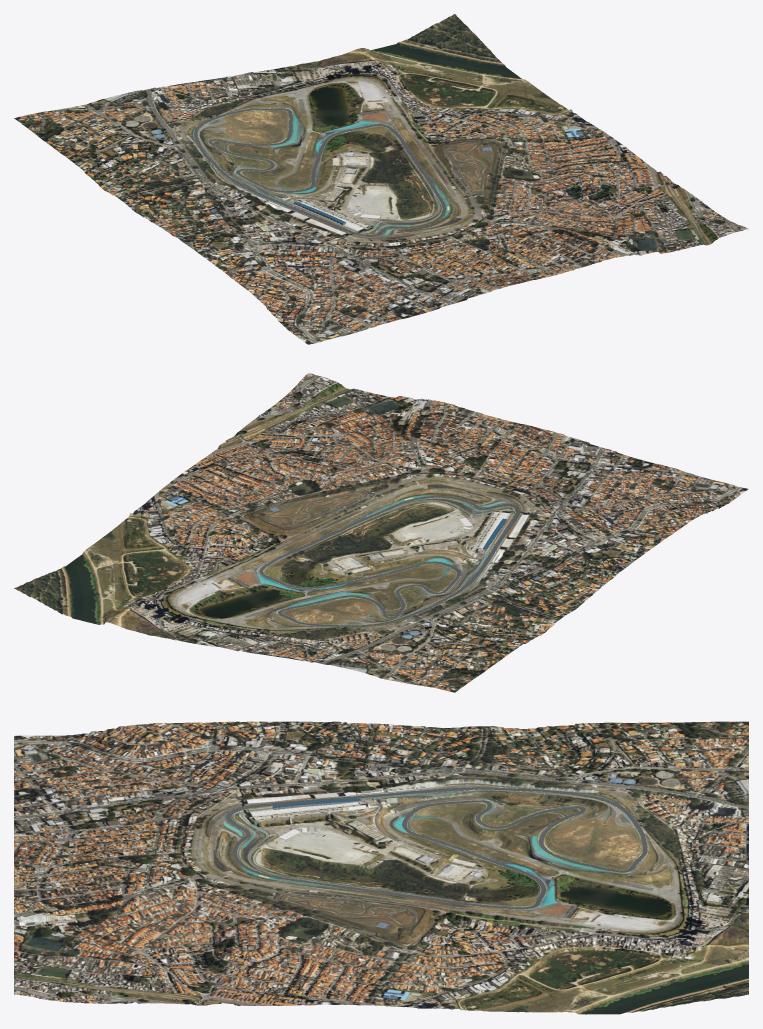
Rendered from interlagos_pista.glb.
3 renders of one model, top to bottom at view 1: azimuth 30°, elevation 25°; view 2: azimuth 150°, elevation 25°; view 3: azimuth 270°, elevation 25°, orthographic. The views are drawn at different scales.
Parts seen in each view (by area): view 1: Terreno_LiDAR_grade_4m, Circuito_4309m_colisao; view 2: Terreno_LiDAR_grade_4m, Circuito_4309m_colisao; view 3: Terreno_LiDAR_grade_4m, Circuito_4309m_colisao.
Part boxes in pixels (x1,y1,x2,y2): Terreno_LiDAR_grade_4m: [14, 14, 748, 344]; Circuito_4309m_colisao: [193, 108, 446, 236]; Terreno_LiDAR_grade_4m: [14, 373, 748, 692]; Circuito_4309m_colisao: [259, 496, 520, 626]; Terreno_LiDAR_grade_4m: [14, 721, 748, 1014]; Circuito_4309m_colisao: [225, 787, 647, 909].
Size of the model in its own units: 1607 by 72.55 by 1856.
9 materials, 1 textured.
